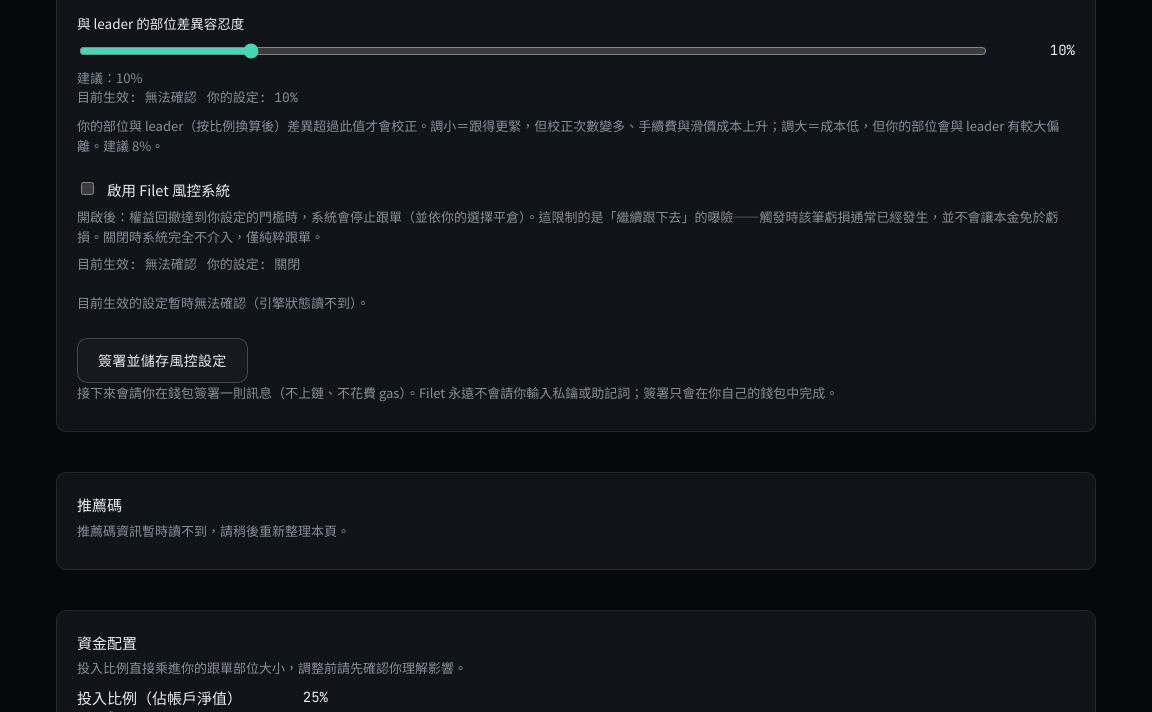
Test case: SettingsPage — 風控簽署失敗改 toast（Task 8 R2·P0） › 錢包拒絕簽署 → 顯示可關閉的 toast（非永久紅框）＋按鈕改標籤「重新簽署」＋可手動關閉
The image size is (1152, 712).
(page scrolled)
Click the button "簽署並儲存風控設定" at (162, 360), box [77, 338, 248, 383]
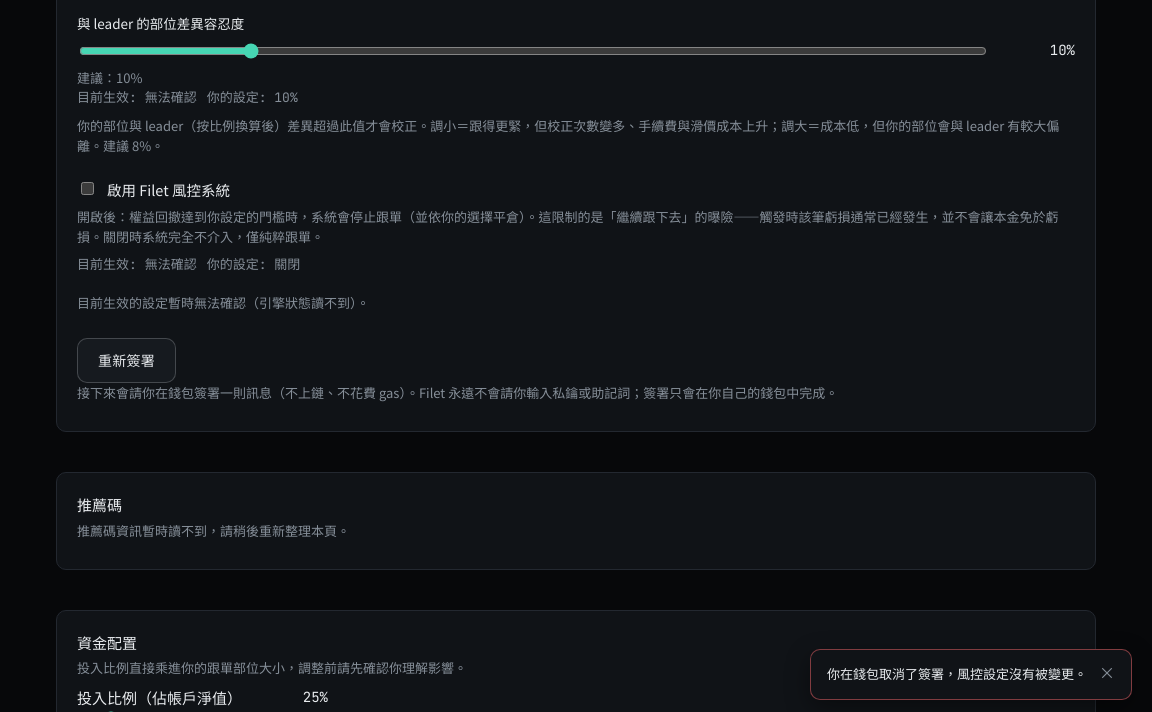
Check: the text "你在錢包取消了簽署，風控設定沒有被變更。" is shown, box [827, 664, 1087, 683]
Check: the button "重新簽署" is shown, box [77, 338, 176, 383]
Check: the button "簽署並儲存風控設定" is gone
Note: 手動關閉 → toast 立即消失。
Click the button named "關閉" at (1107, 672), box [1099, 664, 1115, 680]
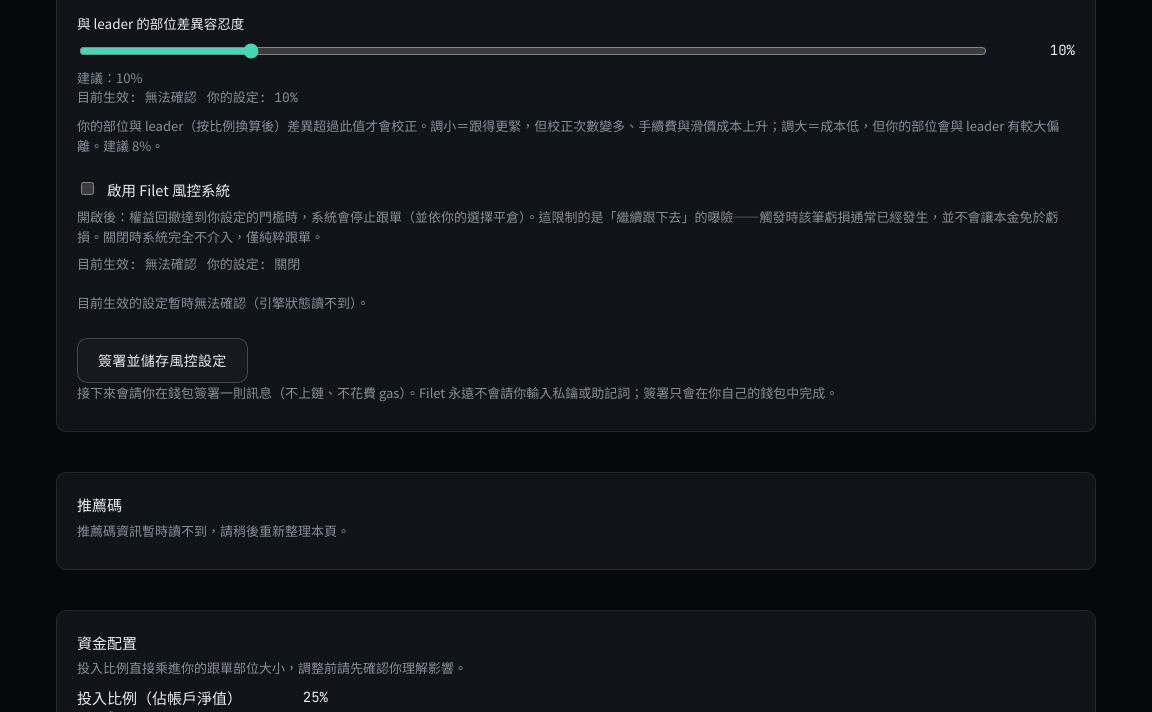
Check: the text "你在錢包取消了簽署，風控設定沒有被變更。" is gone
